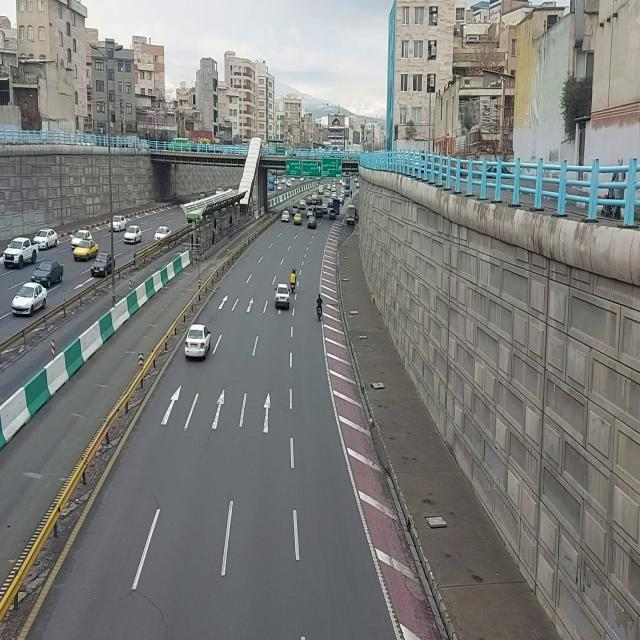Car: (12, 282, 48, 317), (184, 324, 212, 361), (31, 259, 65, 287), (91, 252, 116, 278), (73, 239, 99, 262), (33, 229, 58, 251), (274, 280, 290, 312), (124, 225, 142, 245), (108, 215, 127, 233), (154, 224, 172, 242), (71, 228, 93, 241), (307, 216, 317, 230), (293, 213, 303, 227), (282, 210, 291, 224), (329, 209, 337, 221), (292, 204, 300, 215), (307, 207, 315, 218), (299, 200, 307, 211), (316, 206, 323, 218), (198, 191, 208, 199), (316, 196, 323, 206), (215, 187, 223, 195), (328, 198, 334, 208), (325, 190, 331, 198), (312, 192, 318, 200), (332, 192, 338, 200), (277, 184, 283, 192), (287, 181, 293, 187)
Motorcycle: (316, 290, 324, 324), (290, 266, 298, 294), (350, 189, 353, 199), (342, 197, 344, 207)
Pickup: (3, 237, 39, 270), (333, 198, 341, 214), (268, 176, 275, 192), (318, 185, 324, 196)
